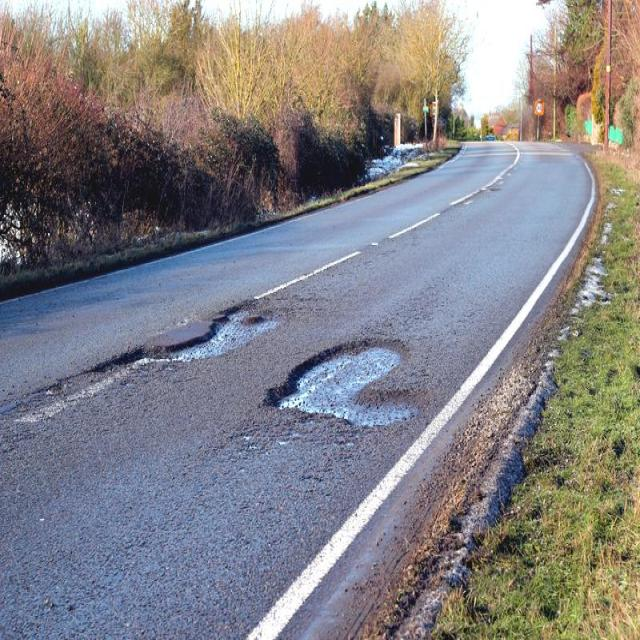pothole: (268, 334, 420, 441), (115, 300, 281, 366)
